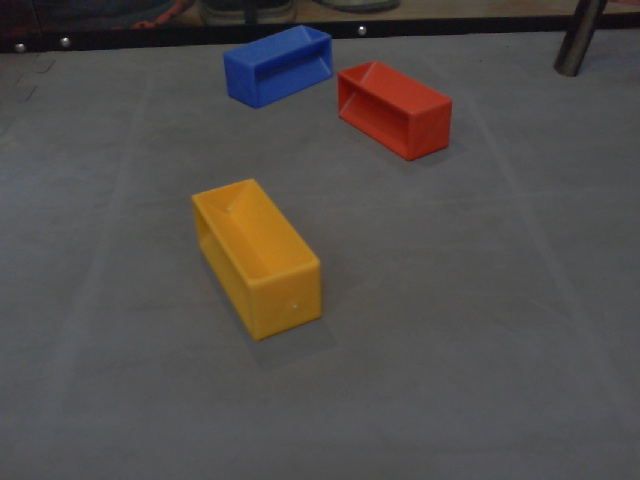BlueSample: (221, 22, 336, 108)
RedSample: (335, 60, 452, 162)
YellowSample: (186, 173, 328, 344)
